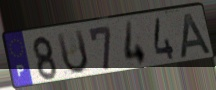4: (123, 19, 148, 68), (153, 16, 176, 61)
7: (86, 24, 113, 71)
8: (31, 33, 59, 81)
A: (179, 12, 214, 60)
U: (55, 27, 91, 77)
